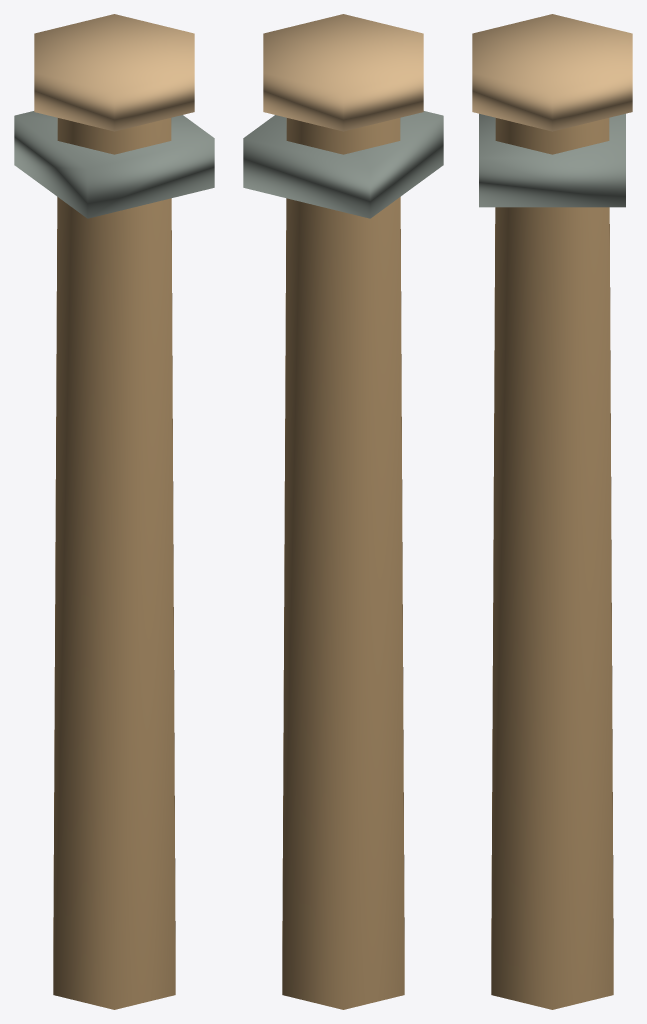
Rendered from pier_post_low.glb.
3 views of the same model, side by side, from view 1: azimuth 30°, elevation 25°; view 2: azimuth 150°, elevation 25°; view 3: azimuth 270°, elevation 25° (orthographic).
Bounding box in the file's own units: 0.34 × 1.88 × 0.2945.
